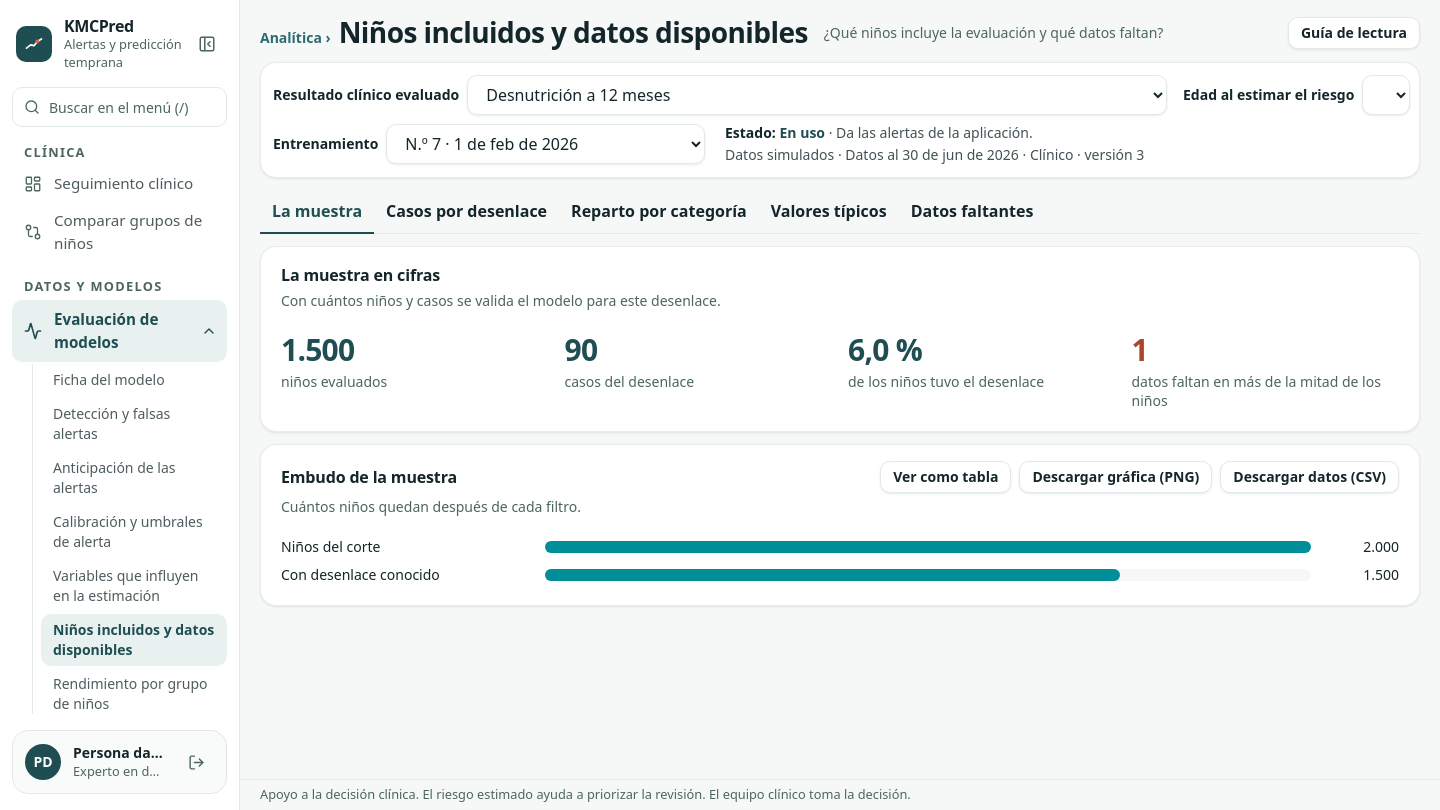
it: Población en pestañas › «Casos por desenlace» lista los desenlaces con sus casos y la advertencia de pocos casos
Click the tab "Casos por desenlace". click: click(467, 212)
box: 374,190 -> 559,234
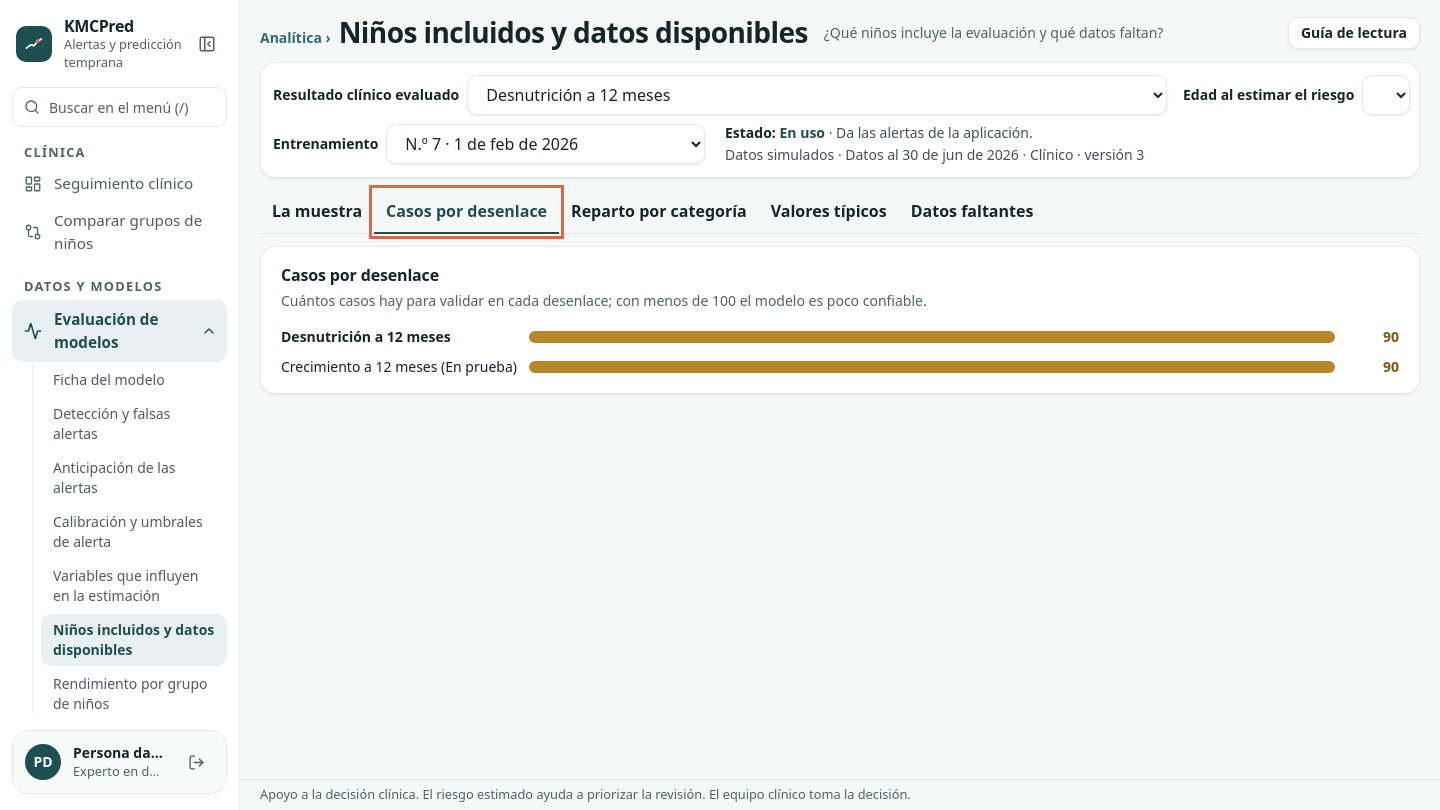
Result: the text "Cuántos casos hay para validar en cada desenlace" is shown at 281,291 -> 927,310
Result: the text "Crecimiento a 12 meses (En prueba)" is shown at 281,358 -> 521,375
